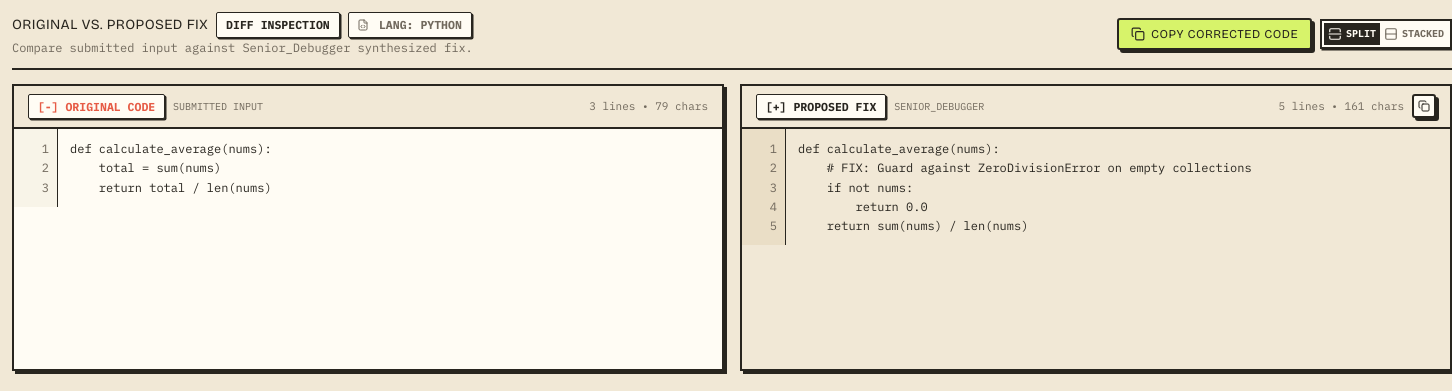
Test case: SideBySideComparison & Copy Corrected Code Suite › secondary copy icon in Proposed Fix panel header also copies exact raw code
Click the button named "copy corrected code" at (1424, 106), box [1412, 94, 1436, 118]
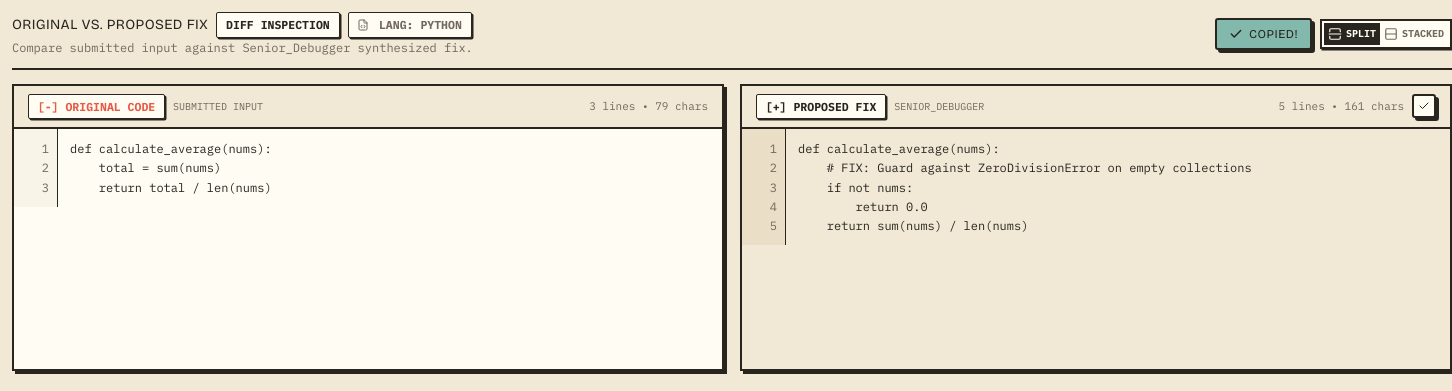
Result: the text "Copied!" is shown at [1229, 26, 1298, 42]
